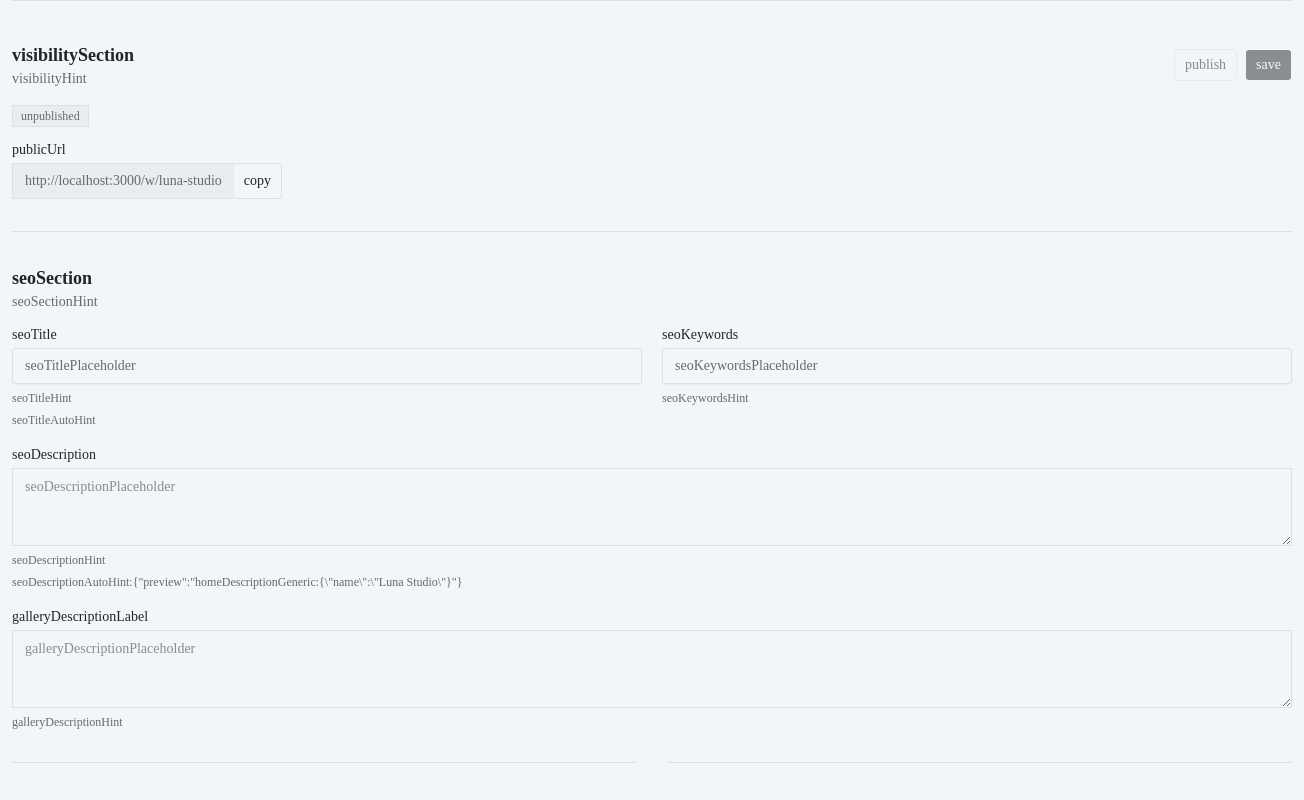
Scenario: PublicPageSettingsForm — automatic SEO status hints › makes the automatic-description hint disappear live as the owner types
The image size is (1304, 800).
expect the text "seoDescriptionAutoHint" is shown: met, box x1=12 y1=575 x2=462 y2=589
Type "My own pitch." into the text box labelled "seoDescription" at coordinates (652, 507), box x1=12 y1=468 x2=1292 y2=546
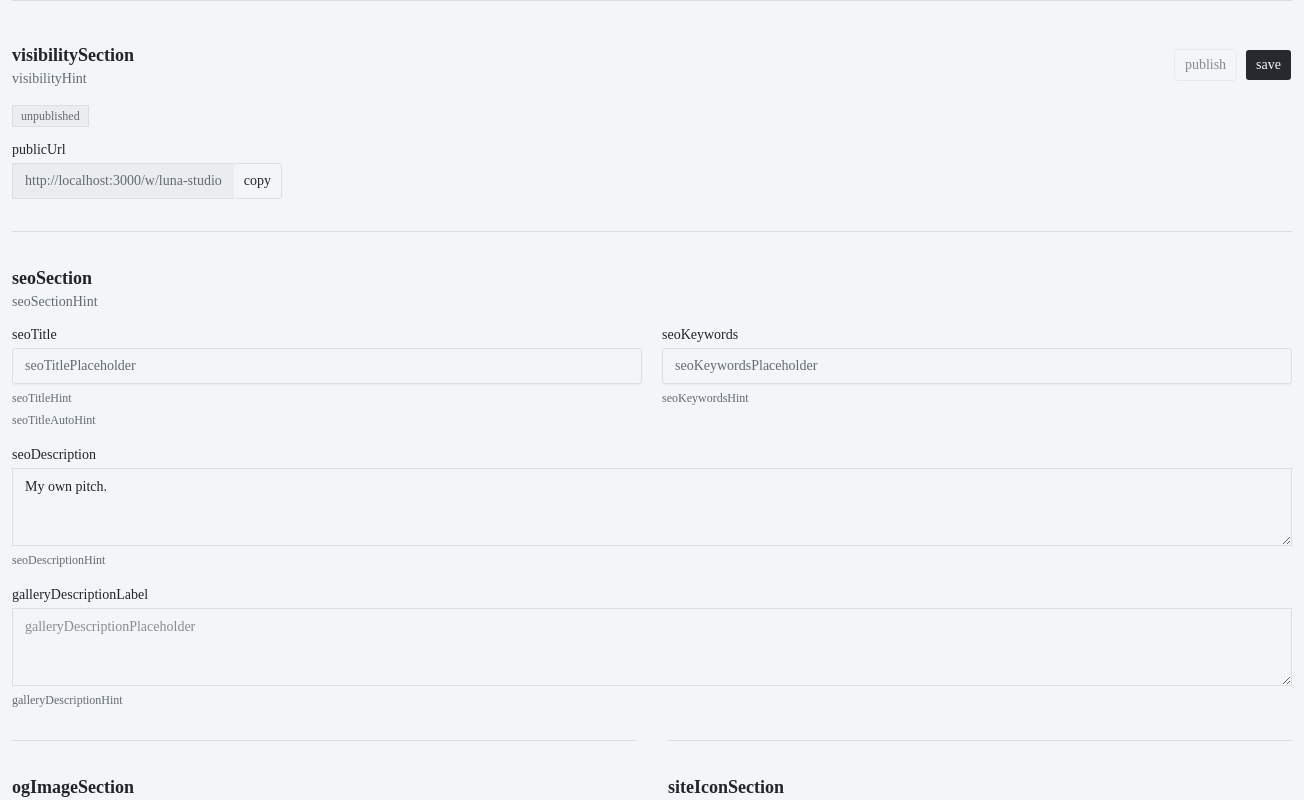
expect the text "seoDescriptionAutoHint" is gone: met
